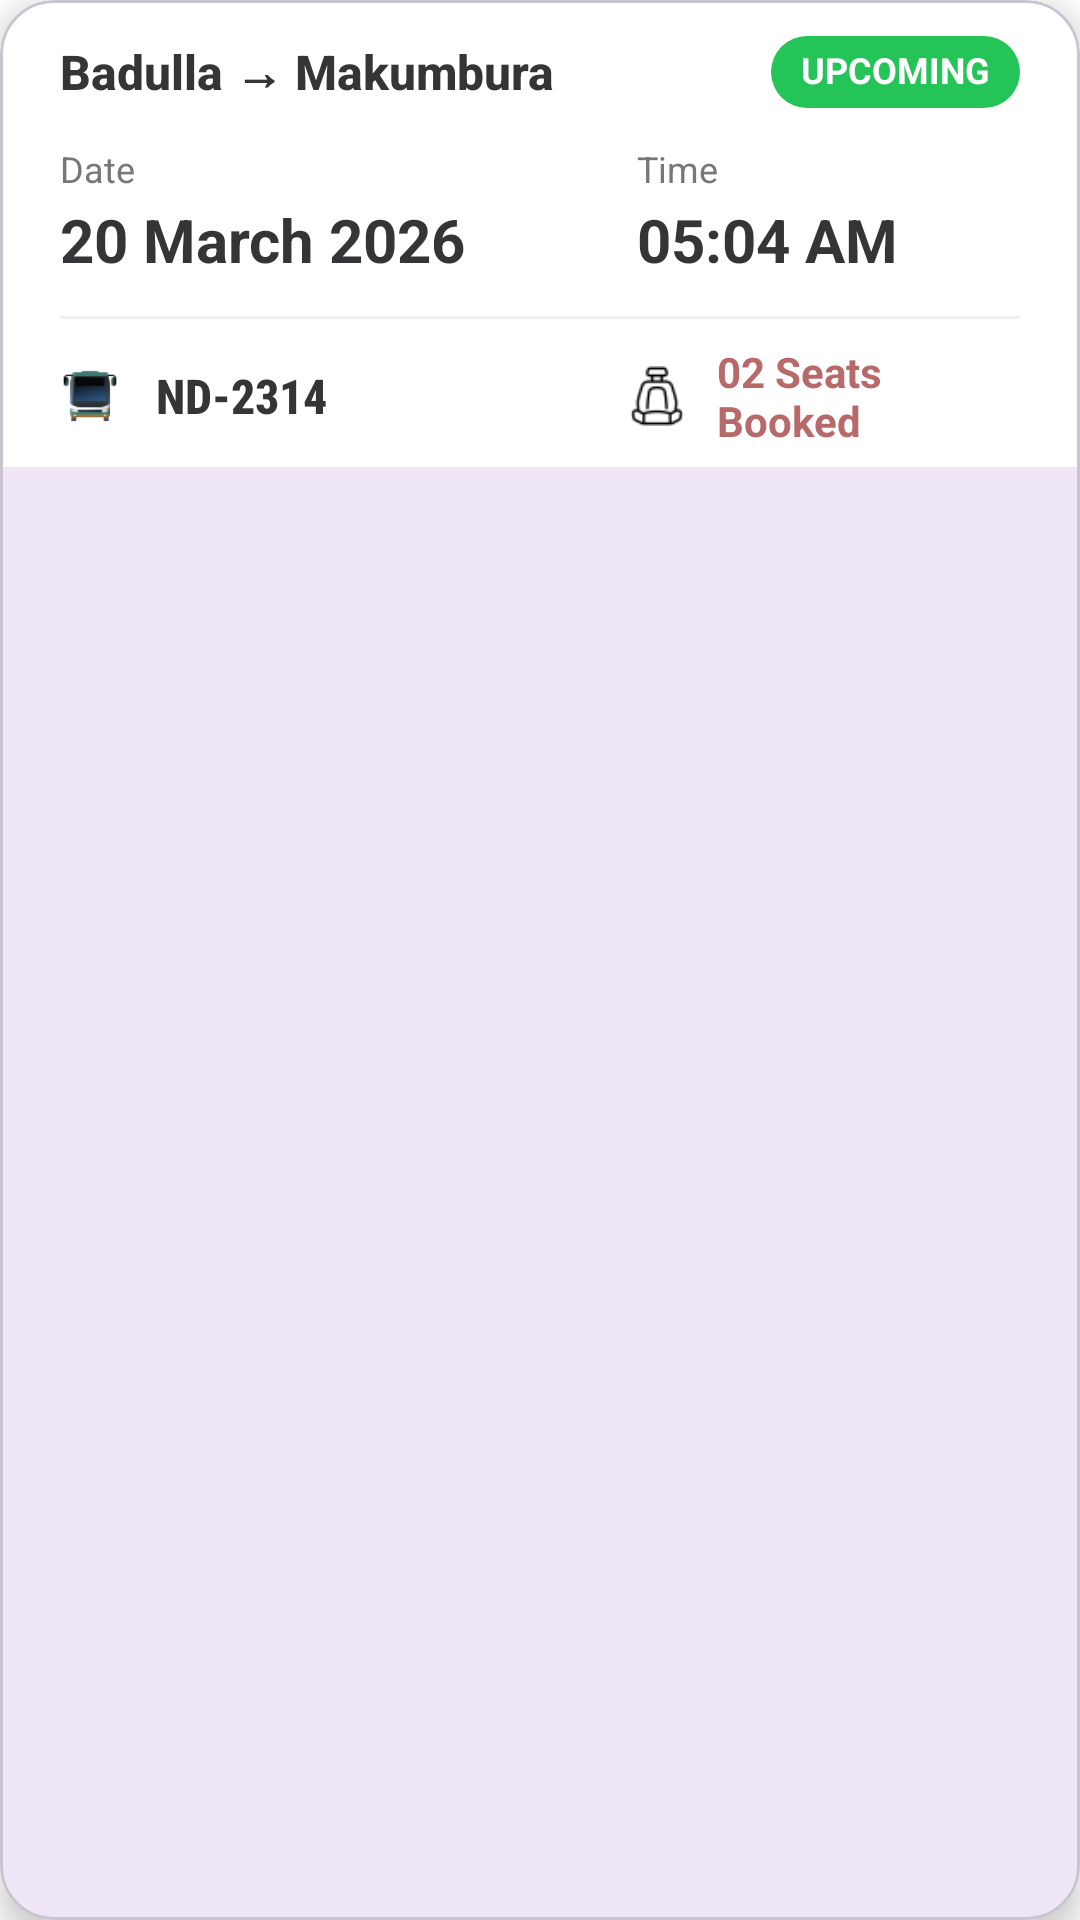

Locate icon controls on the screen. Image size 1080*1920, boxes as (x1, y1, x2, y2).
airline seat recline extra: (631, 366, 683, 426)
bus font: (63, 371, 117, 421)
